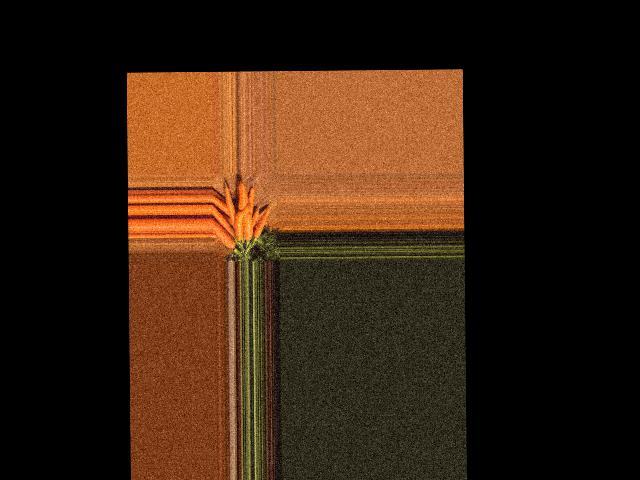carrot: (212, 220, 236, 251)
